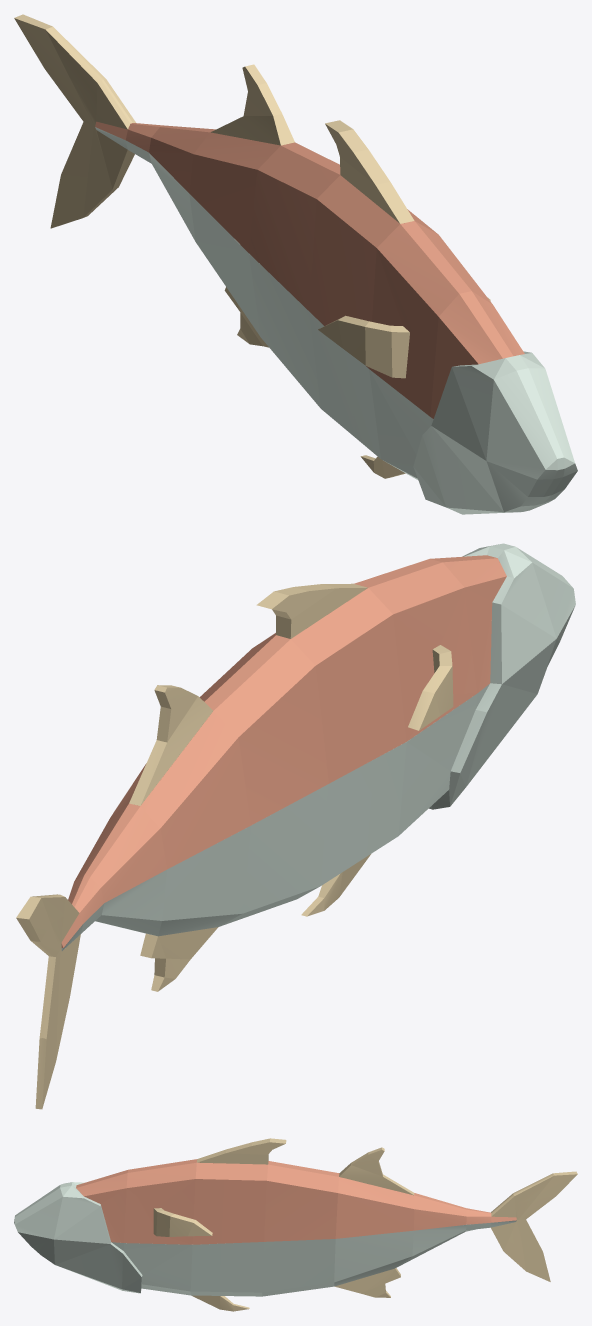
File: nage-fish1.glb
3 views of the same model, one above another, from view 1: azimuth 30°, elevation 25°; view 2: azimuth 150°, elevation 25°; view 3: azimuth 270°, elevation 25° (orthographic). The views are drawn at different scales.
Visible parts, largest first — view 1: Cube_1, Cube, Cube_2; view 2: Cube_1, Cube, Cube_2; view 3: Cube_1, Cube, Cube_2.
Boxes of the visible parts, box(x1,y1,x2,y2) form: Cube_1: box(95, 121, 524, 418); Cube: box(95, 127, 577, 514); Cube_2: box(14, 14, 490, 478); Cube_1: box(61, 555, 506, 947); Cube: box(61, 543, 575, 950); Cube_2: box(16, 583, 453, 1109); Cube_1: box(76, 1159, 516, 1244); Cube: box(14, 1182, 516, 1296); Cube_2: box(153, 1138, 577, 1311).
Bounding box in the file's own units: 0.0713 × 0.1492 × 0.4454.
